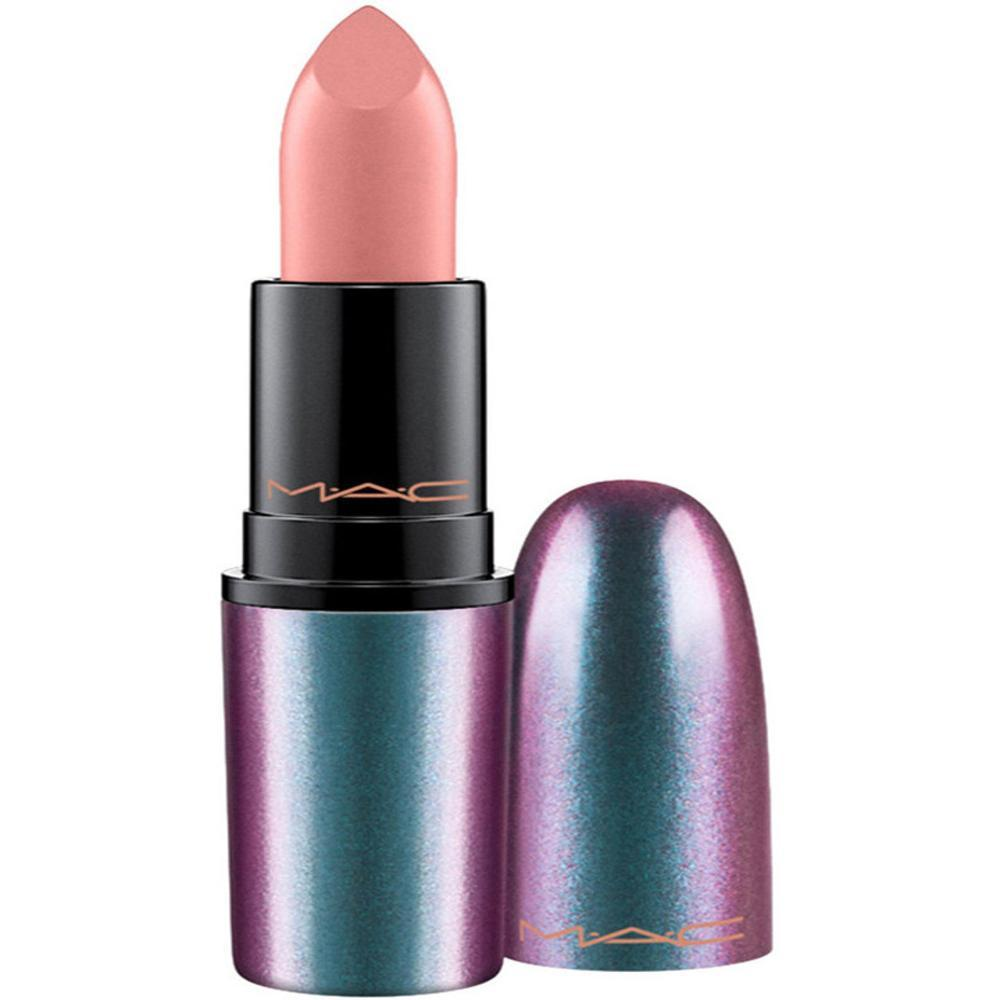lipstick: (208, 18, 545, 1000)
